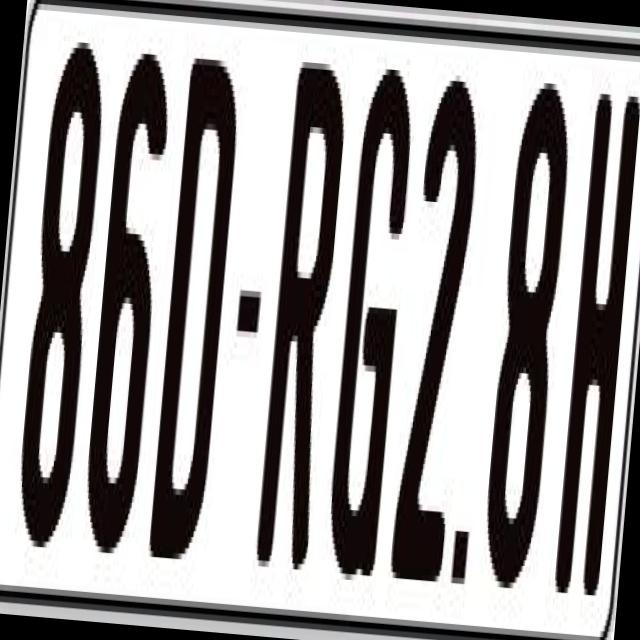2: (383, 61, 489, 600)
6: (74, 34, 174, 566)
8: (12, 34, 116, 561), (476, 75, 575, 613)
D: (143, 46, 242, 566)
G: (318, 61, 416, 587)
H: (547, 92, 639, 612)
R: (252, 49, 354, 558)
